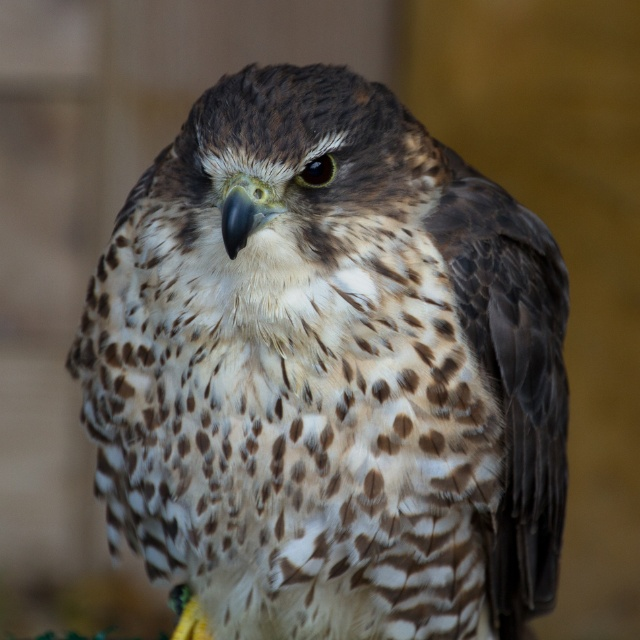Owl: (66, 68, 593, 640)
